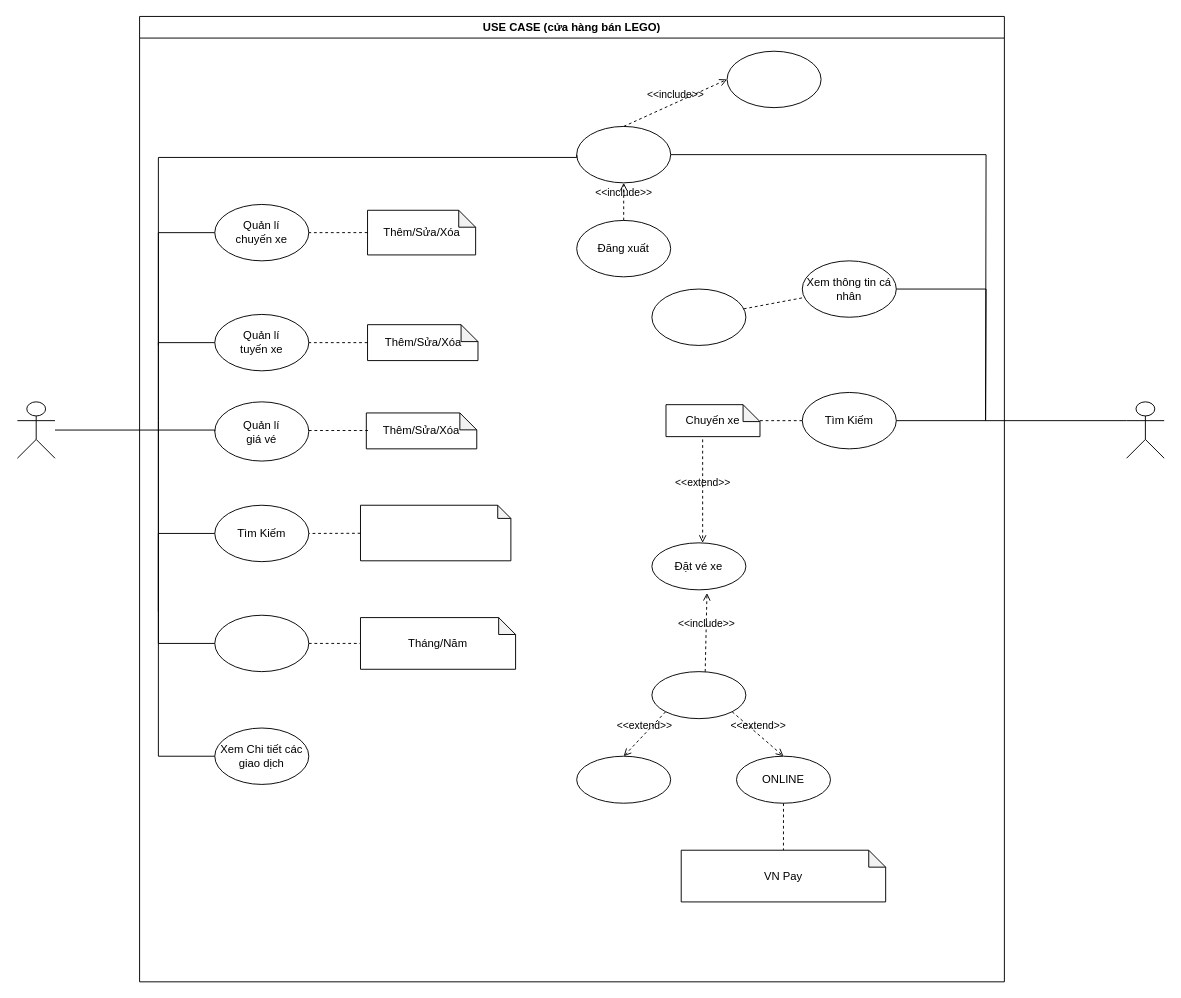
Image size: 1181x998. Some labels were removed from this diagram. Each missing label, with the centre of its shape:
Chuyến xe/khách hàng /tuyến xe/vé xe: the point at 435,532
COD: the point at 623,779
Cập nhật thông tin cá nhân: the point at 698,316
Người dùng: the point at 1145,429
Quản trị viên: the point at 35,429
Thanh toán: the point at 698,695
Thống kê: the point at 261,643
Đăng ký: the point at 773,79
Đăng nhập: the point at 623,154
